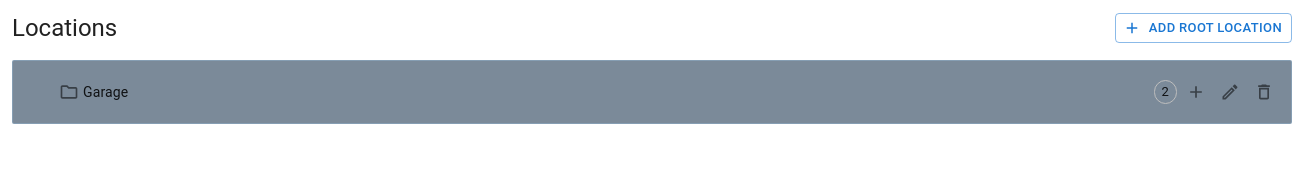
Test case: LocationsPage › reseeds the rename input from the current name on each rename click
The width and height of the screenshot is (1304, 172).
Expected: the link "Garage" is shown, [83,84,128,100]
Click the button named "Rename Garage". click: (1230, 92)
box: [1215,77,1245,107]
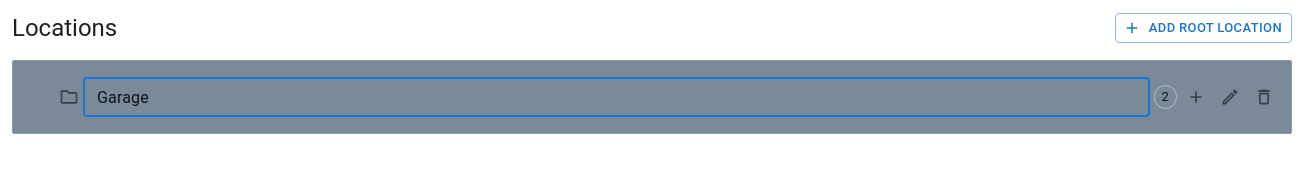
Type " stale" into the field named "Rename Garage". click: (616, 97)
box: [83,77,1150,117]
Then press Escape
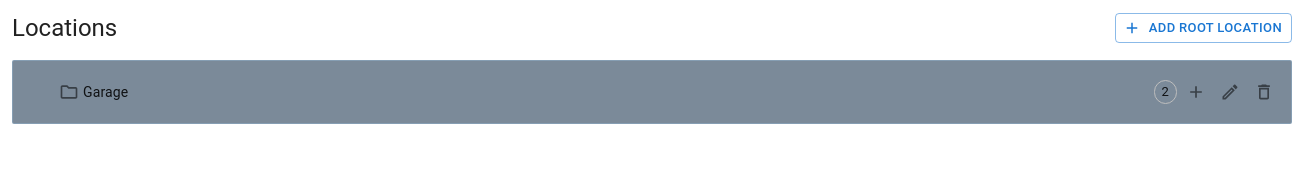
Now the link "Garage" is shown, box [83,84,128,100]
Click the button named "Rename Garage". click: (1230, 92)
box: [1215,77,1245,107]
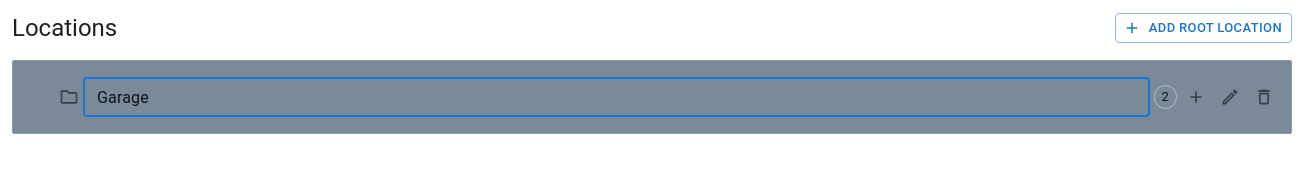
Now the field named "Rename Garage" holds "Garage", box [83,77,1150,117]
